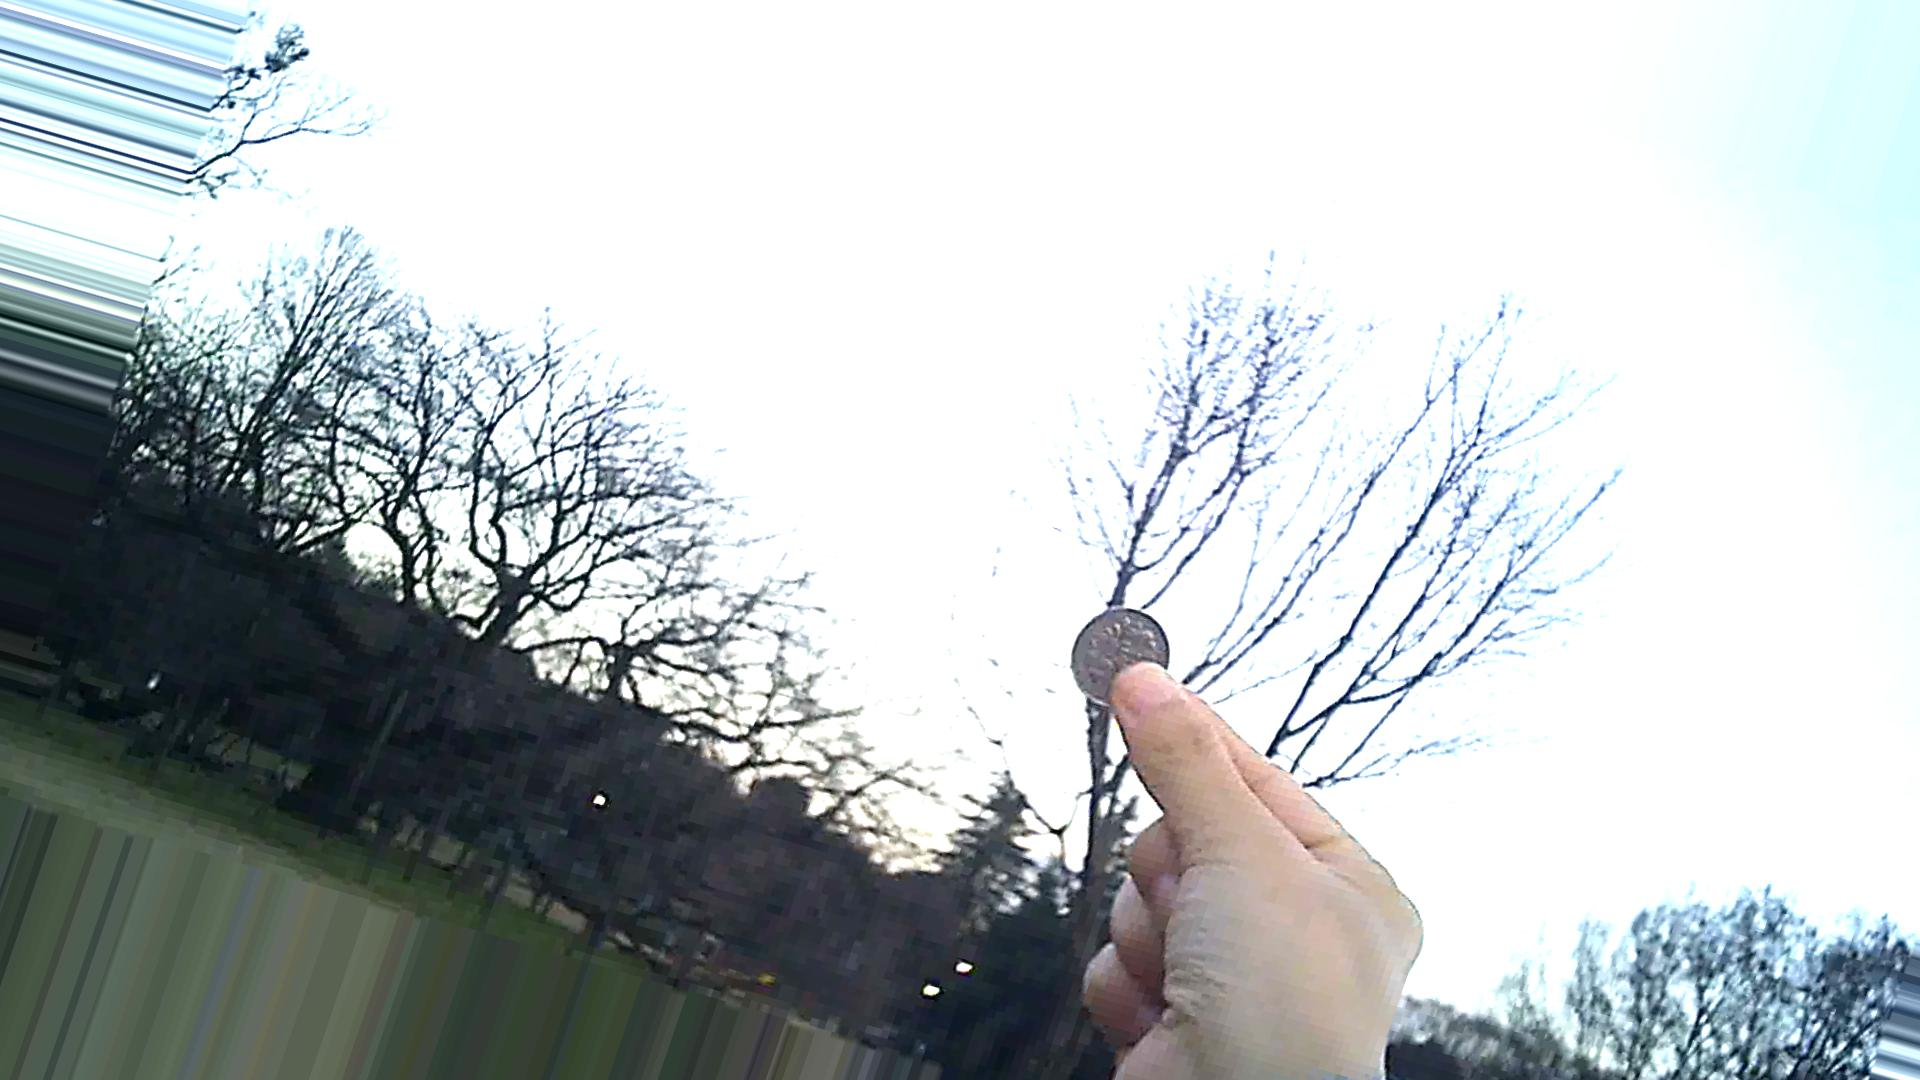100 Yen: (1062, 597, 1179, 715)
